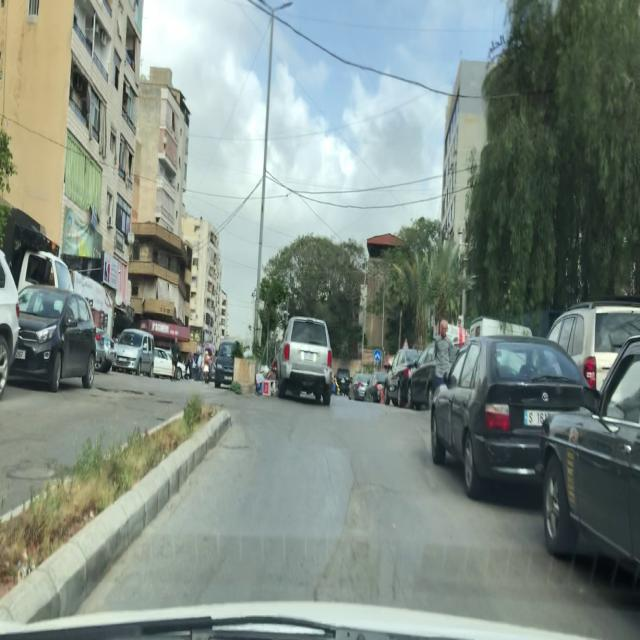Pothole: (94, 386, 156, 399), (153, 398, 174, 408)
